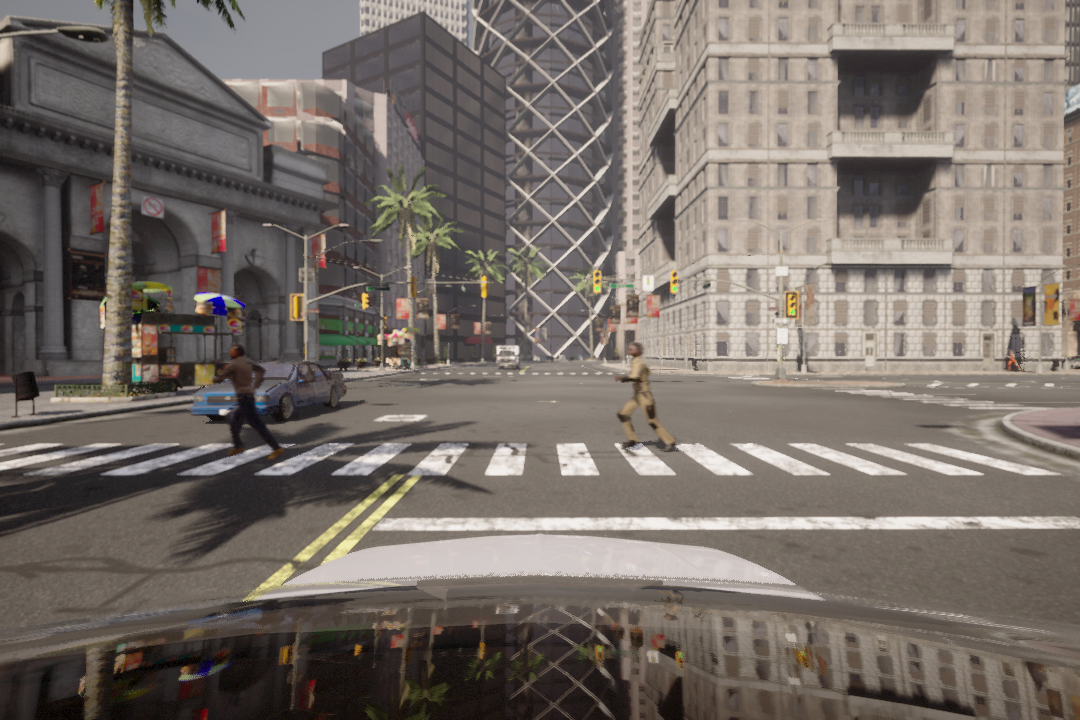TrafficLight: (668, 272, 684, 300), (784, 293, 798, 318), (593, 271, 604, 297)
TrafficSign: (138, 195, 164, 217)
walkside: (1, 438, 1061, 487)
